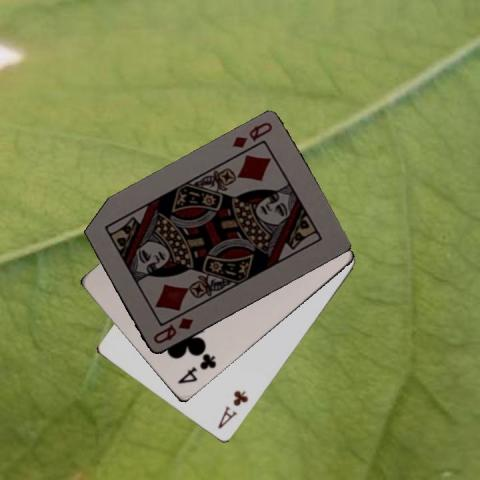4c: (175, 351, 218, 386)
Ac: (215, 388, 250, 432)
Qd: (228, 119, 274, 150), (150, 315, 195, 346)
